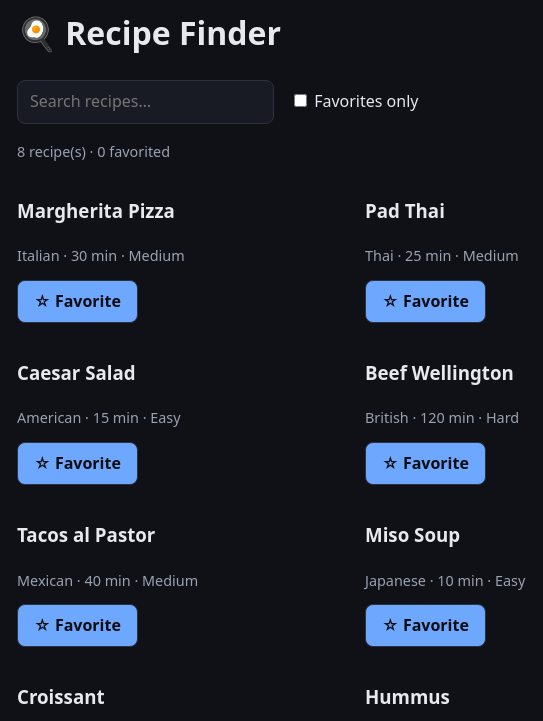
Test case: Recipe Finder › shows an empty state when nothing matches
The width and height of the screenshot is (543, 721).
Check: the heading "Margherita Pizza" is shown, box [17, 198, 175, 223]
Type "zzzzz" into the field labelled "Search recipes…" at (146, 102), box [17, 80, 274, 124]
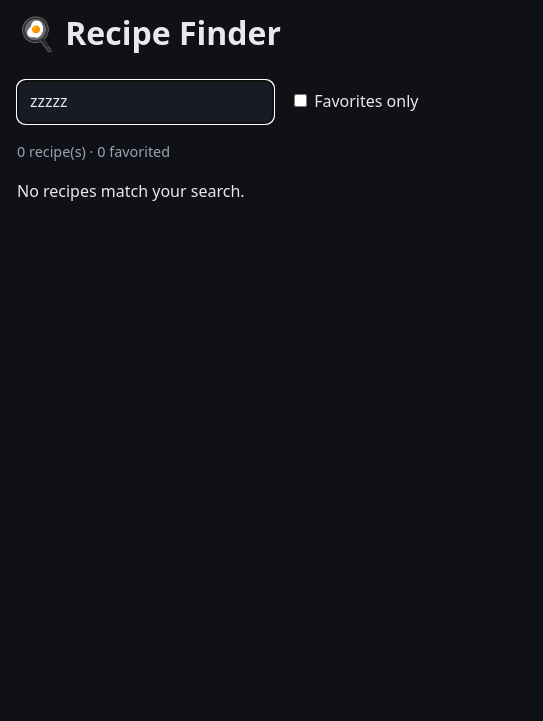
Check: the text "No recipes match your search." is shown, box [17, 180, 245, 202]
